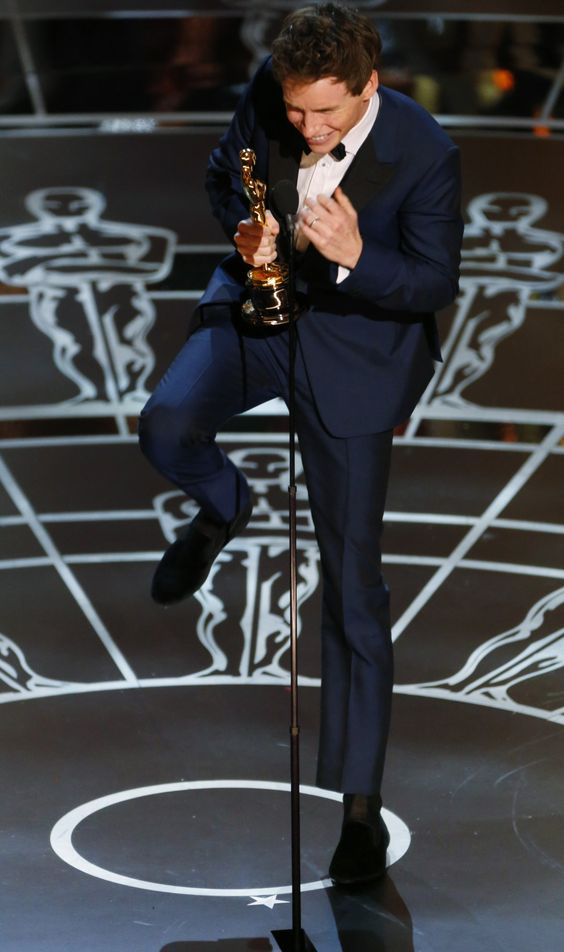hand: (233, 208, 276, 258)
